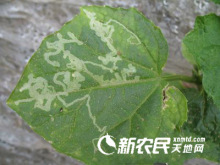liriomyza: (14, 8, 140, 154)
